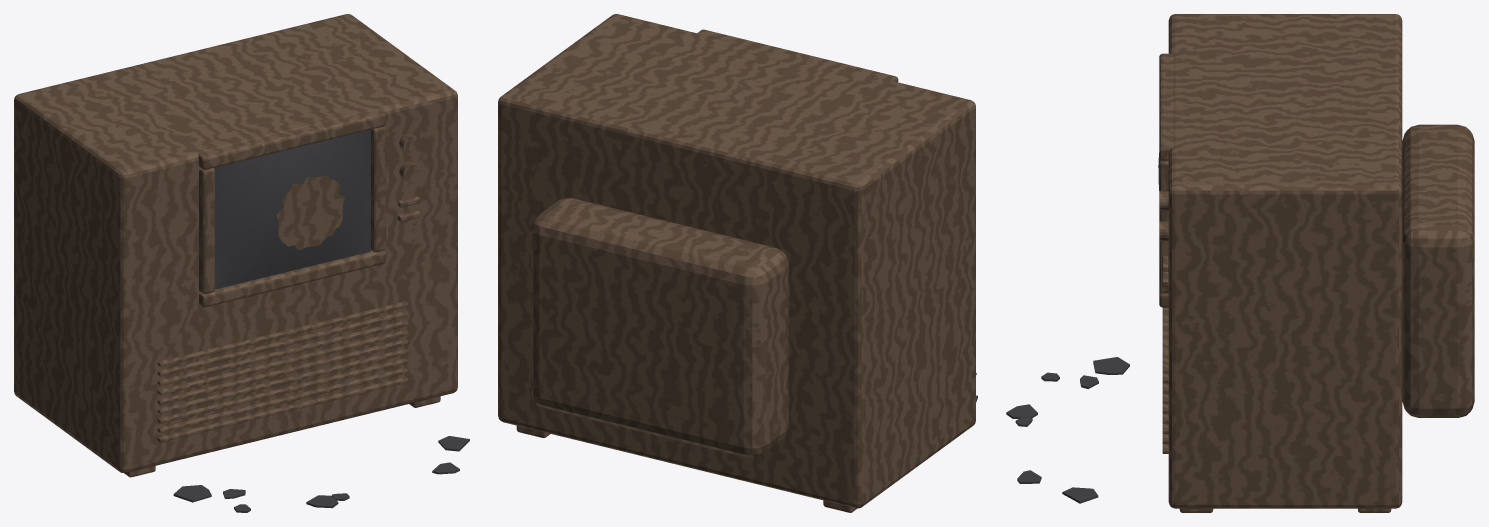
Rendered from PRP_CRTTV_Destroyed.fbx.
3 renders of one model, left to right at view 1: azimuth 30°, elevation 25°; view 2: azimuth 150°, elevation 25°; view 3: azimuth 270°, elevation 25°, orthographic. The views are drawn at different scales.
Visible parts, largest first — view 1: TV_Shell, TV_Screen; view 2: TV_Shell; view 3: TV_Shell, TV_GlassShard_05.
Part boxes in pixels (bbox=[...]): TV_Shell: bbox=[14, 14, 457, 477]; TV_Screen: bbox=[213, 129, 370, 289]; TV_Shell: bbox=[498, 14, 975, 512]; TV_Shell: bbox=[1159, 14, 1474, 512]; TV_GlassShard_05: bbox=[1093, 357, 1129, 374].
Bounding box in the file's own units: 75 × 66 × 84.18.
